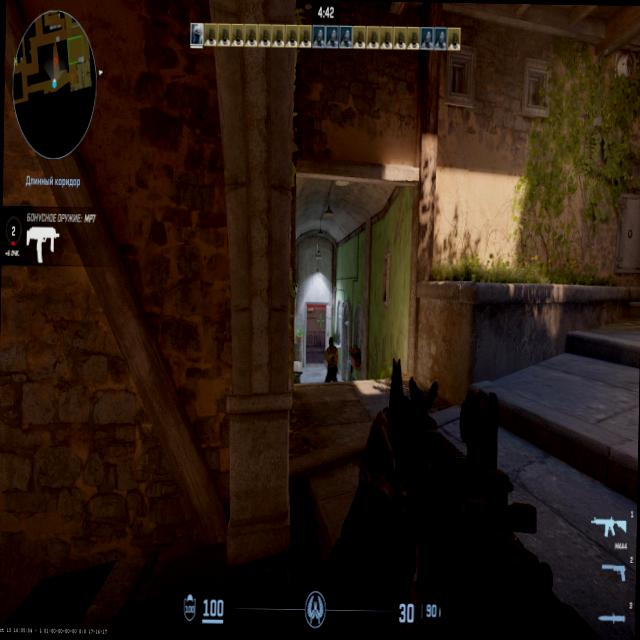T: (326, 336, 337, 382)
T_heat: (329, 337, 333, 344)
